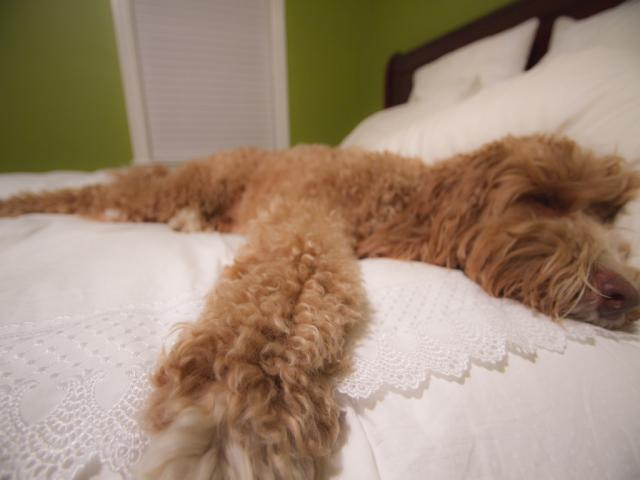Dog: (0, 130, 640, 480)
